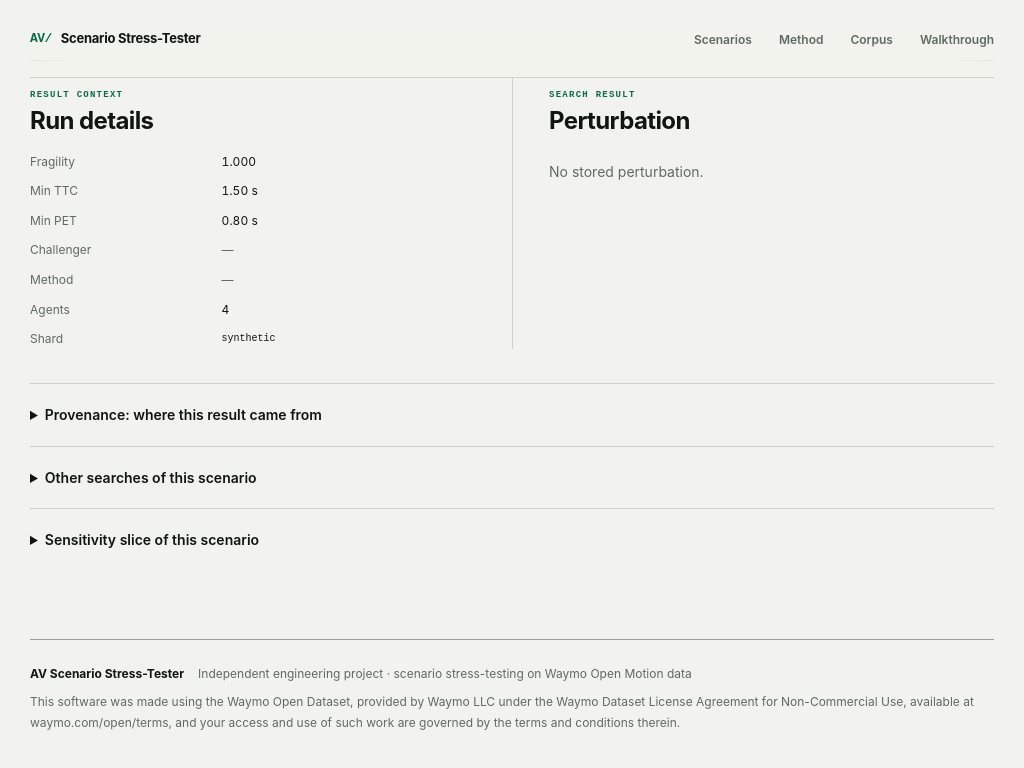
Test: the words the project cannot back do not appear › on the provenance panel, opened, with a stored search
(page scrolled)
Click the heading "Provenance: where this result came from" at (183, 414), box [45, 406, 322, 423]
(page scrolled)
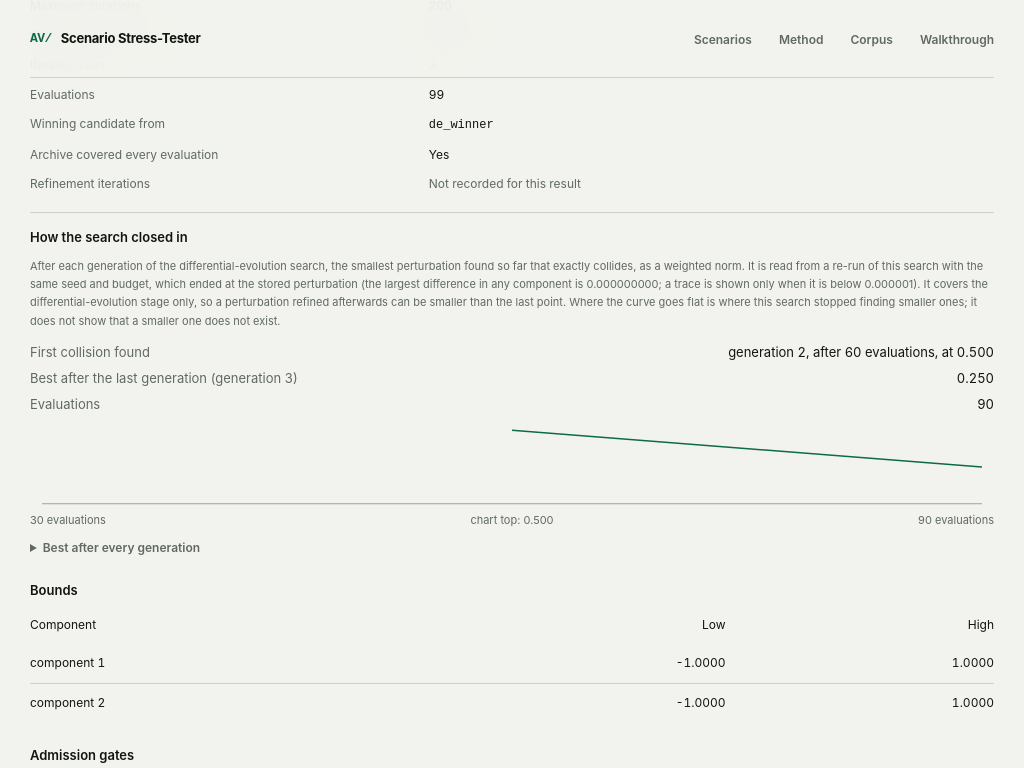
Now the element "How the search closed in" is shown, box [30, 212, 994, 558]
